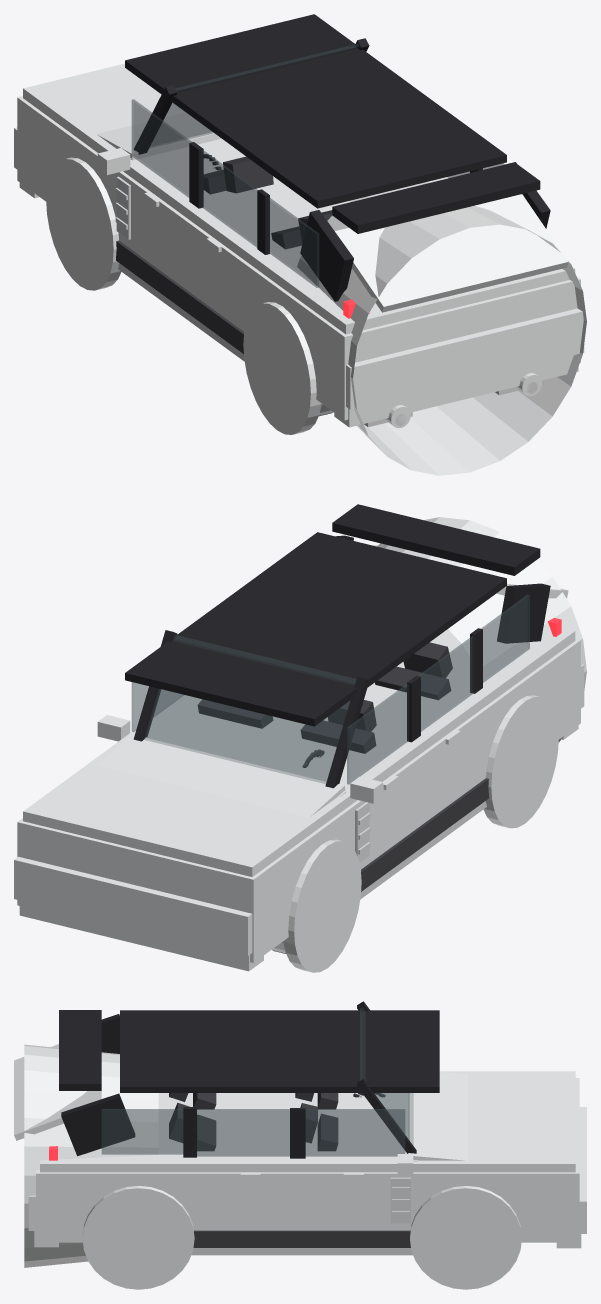
File: Car_Range_Rover_L405_2010s_Complete.glb
3 views of the same model, one above another, from view 1: azimuth 30°, elevation 25°; view 2: azimuth 150°, elevation 25°; view 3: azimuth 270°, elevation 25° (orthographic). The views are drawn at different scales.
Parts seen in each view (by area): view 1: BODY_L405_Main_Fuselage, BODY_L405_Santorini_Black_Roof, EXTERIOR_Rear_Integrated_Bumper, BODY_L405_Wheel_Lip_Arches, BODY_L405_Two_Piece_Powered_Tailgate, GLASS_L405_Acoustic_Windows, BODY_L405_Blackout_ABCD_Pillars, BODY_L405_Lower_Rocker_Trim, BODY_L405_Clamshell_Bonnet, INTERIOR_Oxford_Ebony_Leather_Seats, CHASSIS_D7u_All_Aluminum_Floorpan, EXTERIOR_Mirrors_and_Door_Pulls (+1 smaller); view 2: BODY_L405_Main_Fuselage, BODY_L405_Santorini_Black_Roof, GLASS_L405_Acoustic_Windows, BODY_L405_Wheel_Lip_Arches, EXTERIOR_Front_Integrated_Bumper, BODY_L405_Clamshell_Bonnet, BODY_L405_Blackout_ABCD_Pillars, INTERIOR_Oxford_Ebony_Leather_Seats, BODY_L405_Lower_Rocker_Trim, EXTERIOR_Mirrors_and_Door_Pulls, CHASSIS_D7u_All_Aluminum_Floorpan, EXTERIOR_Signature_Fender_Gill_Vents; view 3: BODY_L405_Main_Fuselage, BODY_L405_Santorini_Black_Roof, BODY_L405_Wheel_Lip_Arches, GLASS_L405_Acoustic_Windows, BODY_L405_Blackout_ABCD_Pillars, BODY_L405_Clamshell_Bonnet, BODY_L405_Lower_Rocker_Trim, INTERIOR_Oxford_Ebony_Leather_Seats, CHASSIS_D7u_All_Aluminum_Floorpan, BODY_L405_Two_Piece_Powered_Tailgate, EXTERIOR_Front_Integrated_Bumper, EXTERIOR_Signature_Fender_Gill_Vents (+2 smaller).
Boxes of the visible parts, x1,y1,x2,y2 form: BODY_L405_Main_Fuselage: (17, 63, 586, 475); BODY_L405_Santorini_Black_Roof: (125, 14, 540, 233); EXTERIOR_Rear_Integrated_Bumper: (334, 308, 584, 427); BODY_L405_Wheel_Lip_Arches: (46, 157, 321, 434); BODY_L405_Two_Piece_Powered_Tailgate: (335, 194, 568, 312); GLASS_L405_Acoustic_Windows: (131, 44, 504, 287); BODY_L405_Blackout_ABCD_Pillars: (134, 38, 550, 301); BODY_L405_Lower_Rocker_Trim: (116, 240, 243, 353); BODY_L405_Clamshell_Bonnet: (97, 112, 221, 160); INTERIOR_Oxford_Ebony_Leather_Seats: (203, 156, 332, 249); CHASSIS_D7u_All_Aluminum_Floorpan: (118, 263, 333, 415); EXTERIOR_Mirrors_and_Door_Pulls: (97, 148, 221, 252); BODY_L405_Main_Fuselage: (17, 517, 586, 962); BODY_L405_Santorini_Black_Roof: (125, 504, 540, 726); GLASS_L405_Acoustic_Windows: (131, 594, 529, 784); BODY_L405_Wheel_Lip_Arches: (283, 695, 558, 972); EXTERIOR_Front_Integrated_Bumper: (14, 856, 263, 971); BODY_L405_Clamshell_Bonnet: (97, 733, 345, 817); BODY_L405_Blackout_ABCD_Pillars: (133, 535, 550, 788); INTERIOR_Oxford_Ebony_Leather_Seats: (197, 642, 452, 753); BODY_L405_Lower_Rocker_Trim: (361, 778, 488, 891); EXTERIOR_Mirrors_and_Door_Pulls: (97, 715, 460, 803); CHASSIS_D7u_All_Aluminum_Floorpan: (272, 801, 486, 953); EXTERIOR_Signature_Fender_Gill_Vents: (355, 802, 370, 862); BODY_L405_Main_Fuselage: (24, 1044, 579, 1267); BODY_L405_Santorini_Black_Roof: (59, 1010, 439, 1092); BODY_L405_Wheel_Lip_Arches: (82, 1186, 521, 1289); GLASS_L405_Acoustic_Windows: (101, 1007, 413, 1156); BODY_L405_Blackout_ABCD_Pillars: (61, 1001, 416, 1158); BODY_L405_Clamshell_Bonnet: (408, 1072, 467, 1161); BODY_L405_Lower_Rocker_Trim: (193, 1230, 410, 1247); INTERIOR_Oxford_Ebony_Leather_Seats: (169, 1093, 338, 1151); CHASSIS_D7u_All_Aluminum_Floorpan: (191, 1248, 412, 1255); BODY_L405_Two_Piece_Powered_Tailgate: (14, 1044, 101, 1140); EXTERIOR_Front_Integrated_Bumper: (556, 1107, 586, 1248); EXTERIOR_Signature_Fender_Gill_Vents: (390, 1177, 410, 1223).
Size of the model in its own units: 2.36 by 2.13 by 5.11.
